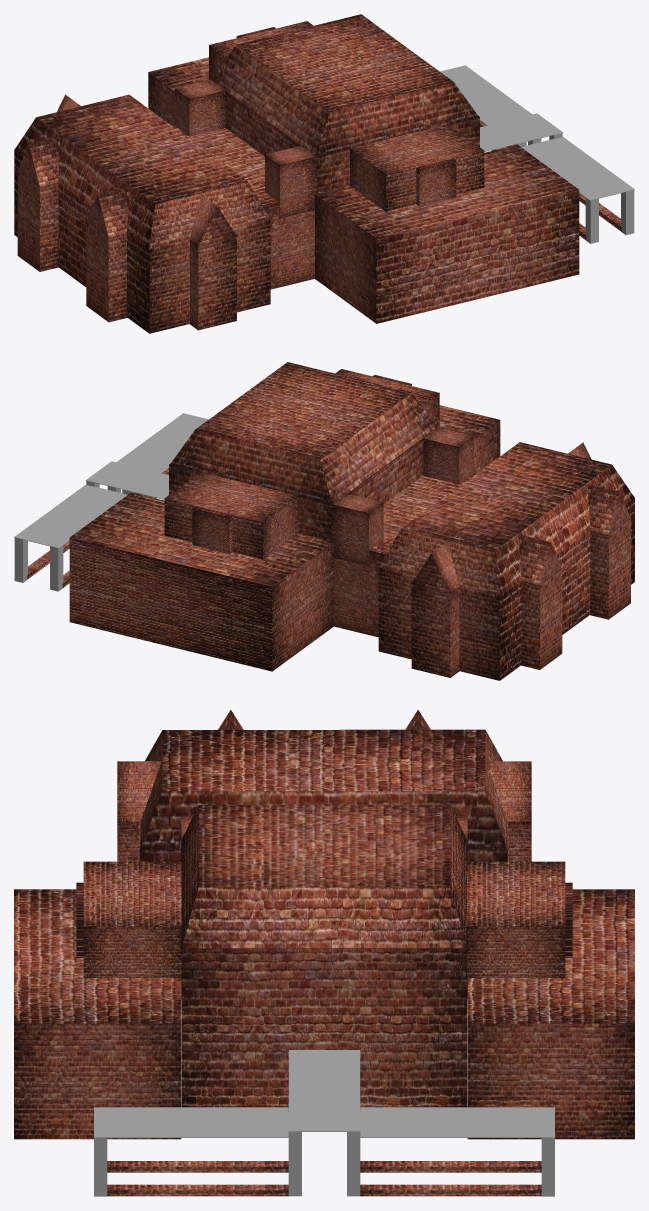
File: final lib west.fbx
3 renders of one model, top to bottom at view 1: azimuth 30°, elevation 25°; view 2: azimuth 150°, elevation 25°; view 3: azimuth 270°, elevation 25°, orthographic. The views are drawn at different scales.
Visible parts, largest first — view 1: pCube16, pCube18, pCube5, pCube1, pCube19, pCube9, pCube10, pCube4, pCube3, pCube15, pCube23, pCube42 (+8 smaller); view 2: pCube17, pCube18, pCube5, pCube1, pCube8, pCube9, pCube6, pCube4, pCube3, pCube15, pCube22, pCube43 (+8 smaller); view 3: pCube15, pCube18, pCube16, pCube17, pCube5, pCube8, pCube19, pCube42, pCube43, pCube40, pCube6, pCube10 (+9 smaller).
Part boxes in pixels (x1=…): pCube16: x1=315, y1=144, x2=579, y2=323; pCube18: x1=212, y1=14, x2=479, y2=156; pCube5: x1=14, y1=94, x2=270, y2=248; pCube1: x1=14, y1=151, x2=270, y2=333; pCube19: x1=350, y1=124, x2=484, y2=211; pCube9: x1=173, y1=126, x2=314, y2=289; pCube10: x1=190, y1=194, x2=236, y2=330; pCube4: x1=17, y1=136, x2=60, y2=271; pCube3: x1=86, y1=186, x2=129, y2=322; pCube15: x1=225, y1=91, x2=479, y2=279; pCube23: x1=265, y1=145, x2=317, y2=218; pCube42: x1=521, y1=137, x2=634, y2=200; pCube17: x1=69, y1=492, x2=333, y2=671; pCube18: x1=170, y1=362, x2=436, y2=504; pCube5: x1=379, y1=442, x2=634, y2=596; pCube1: x1=378, y1=498, x2=634, y2=680; pCube8: x1=164, y1=472, x2=298, y2=559; pCube9: x1=333, y1=473, x2=475, y2=637; pCube6: x1=411, y1=541, x2=459, y2=677; pCube4: x1=519, y1=534, x2=562, y2=669; pCube3: x1=587, y1=484, x2=630, y2=619; pCube15: x1=169, y1=438, x2=423, y2=541; pCube22: x1=331, y1=493, x2=383, y2=565; pCube43: x1=14, y1=484, x2=127, y2=548; pCube15: x1=181, y1=948, x2=467, y2=1107; pCube18: x1=181, y1=804, x2=467, y2=948; pCube16: x1=14, y1=889, x2=181, y2=1139; pCube17: x1=467, y1=889, x2=634, y2=1139; pCube5: x1=140, y1=729, x2=507, y2=849; pCube8: x1=467, y1=861, x2=565, y2=998; pCube19: x1=83, y1=861, x2=181, y2=998; pCube42: x1=94, y1=1107, x2=289, y2=1137; pCube43: x1=359, y1=1107, x2=554, y2=1137; pCube40: x1=289, y1=1050, x2=359, y2=1131; pCube6: x1=486, y1=761, x2=531, y2=861; pCube10: x1=117, y1=761, x2=161, y2=861.
Size of the model in its own units: 115 by 35.49 by 93.03.
Materials: 27 (23 with a texture image).
